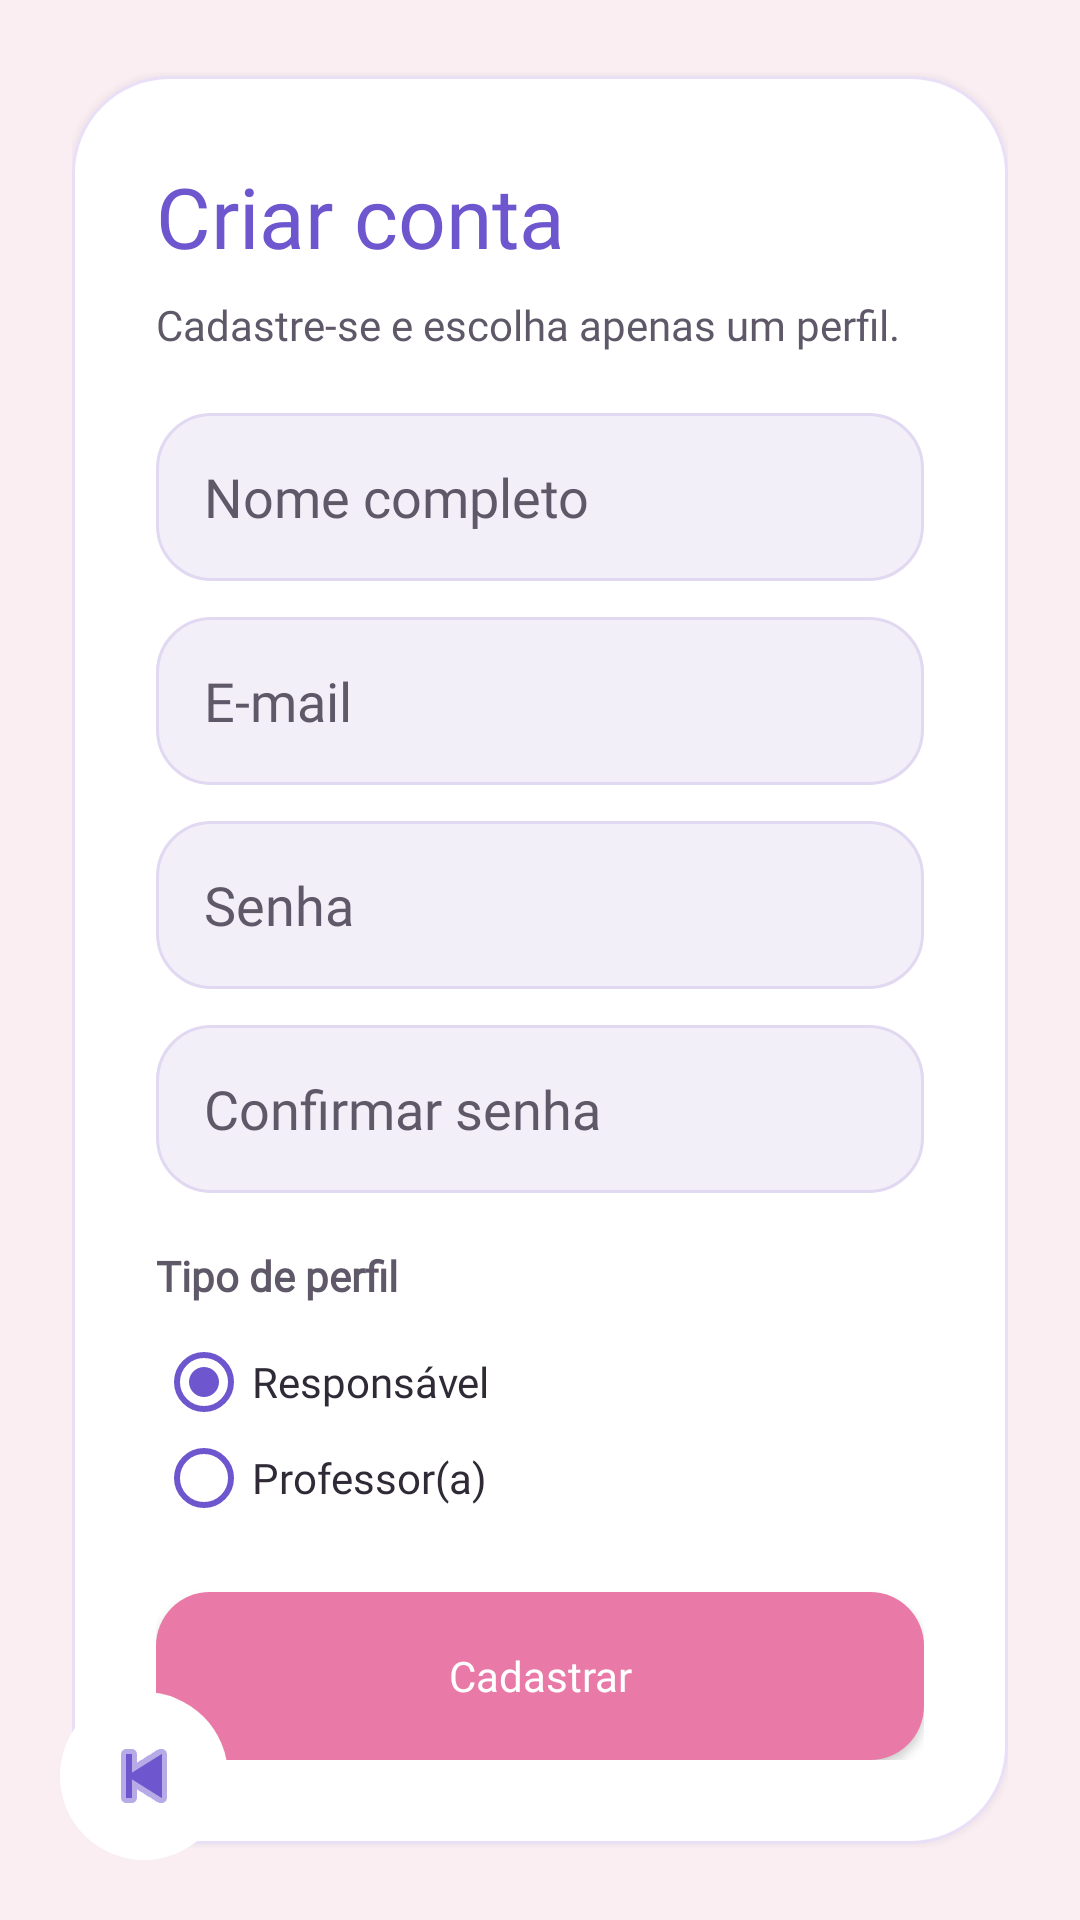

Icon click points for this 1080*1920 phone screenshot, format [x,y]:
previous: [144,1776]
